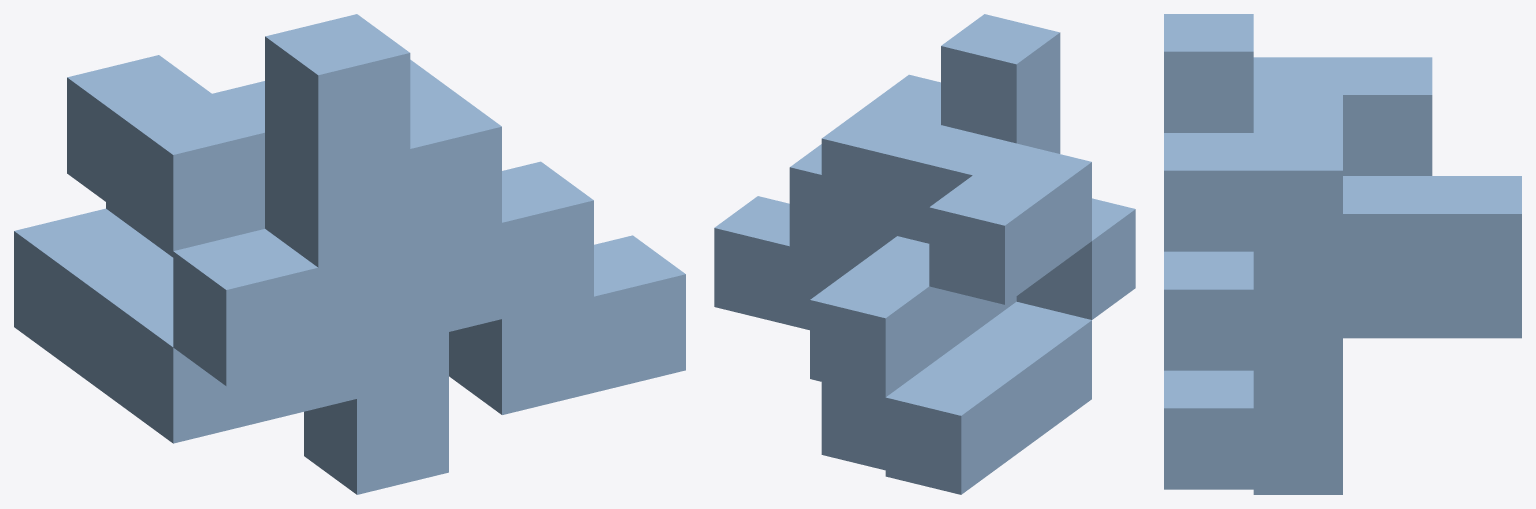
The picture shows the model from 3 angles, left to right: view 1: azimuth 30°, elevation 25°; view 2: azimuth 150°, elevation 25°; view 3: azimuth 270°, elevation 25°; orthographic projection. The views are drawn at different scales.
Parts seen in each view (by area): view 1: _changes (2).001; view 2: _changes (2).001; view 3: _changes (2).001.
Boxes of the visible parts, x1=… form: _changes (2).001: x1=14, y1=14, x2=685, y2=494; _changes (2).001: x1=714, y1=14, x2=1135, y2=494; _changes (2).001: x1=1164, y1=14, x2=1521, y2=494.
Size of the model in its own units: 0.1999 by 0.1999 by 0.1599.
